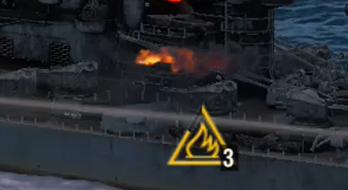3fire: (163, 129, 239, 172)
